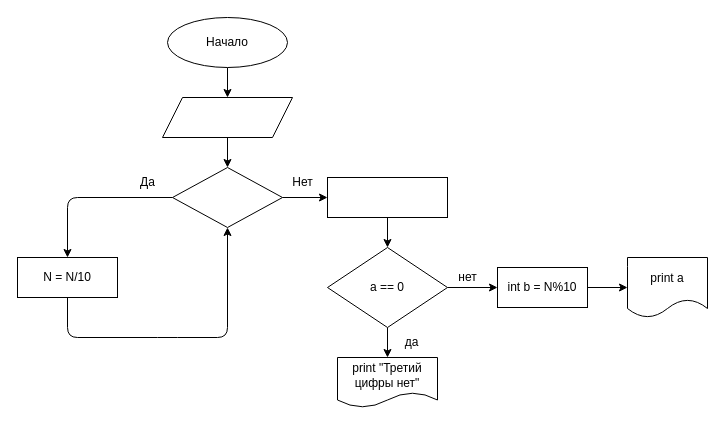
This 725x425 diagram has some shape labels left out. Here are the shapes that lost their labels. From the top down, the centre of each, then its label:
(227,117): Введите число N
(227,197): N > 1000
(387,197): int a = N/100
